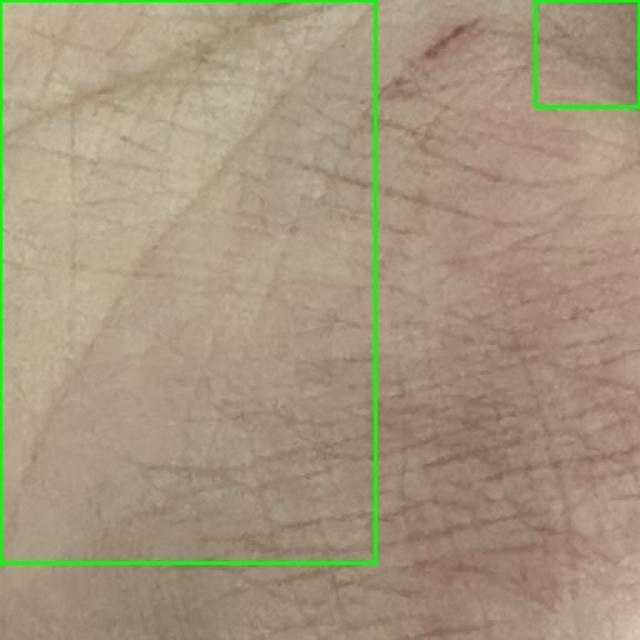Contact Dermatitis: (0, 0, 375, 562), (535, 0, 639, 106)
